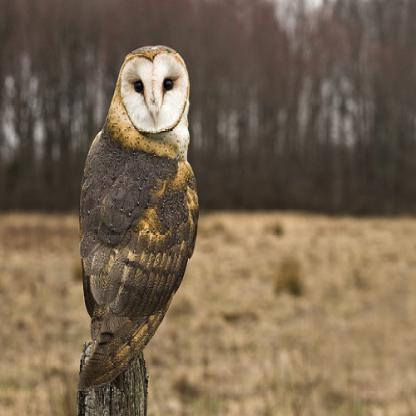owl: (76, 0, 415, 415)
